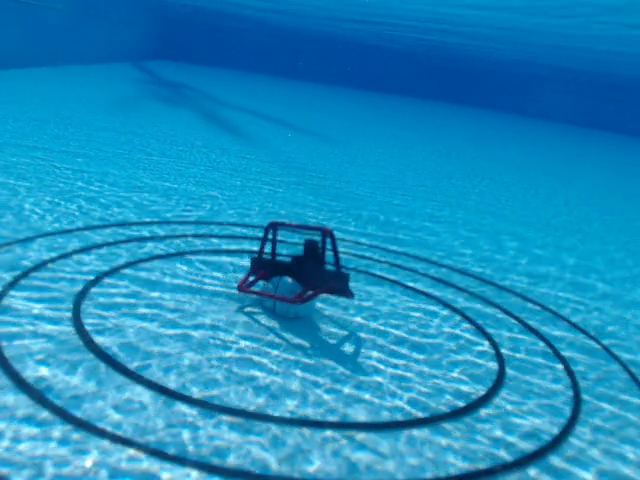submarine: (235, 220, 356, 306)
